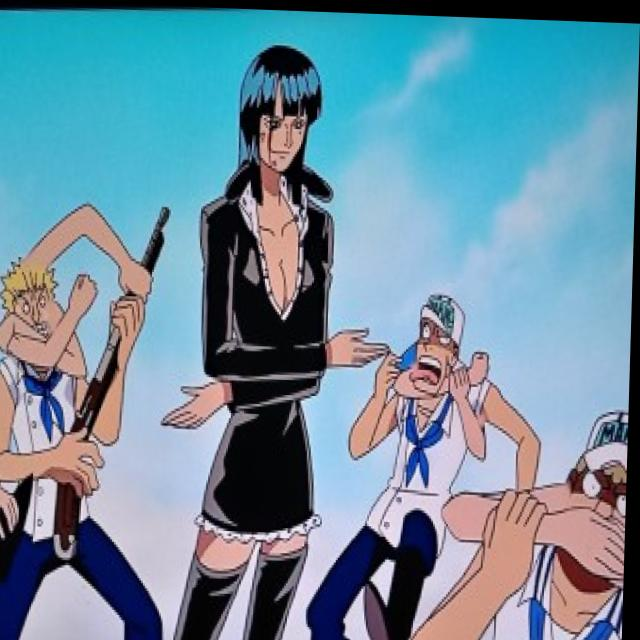NicoRobin: (213, 27, 338, 216)
